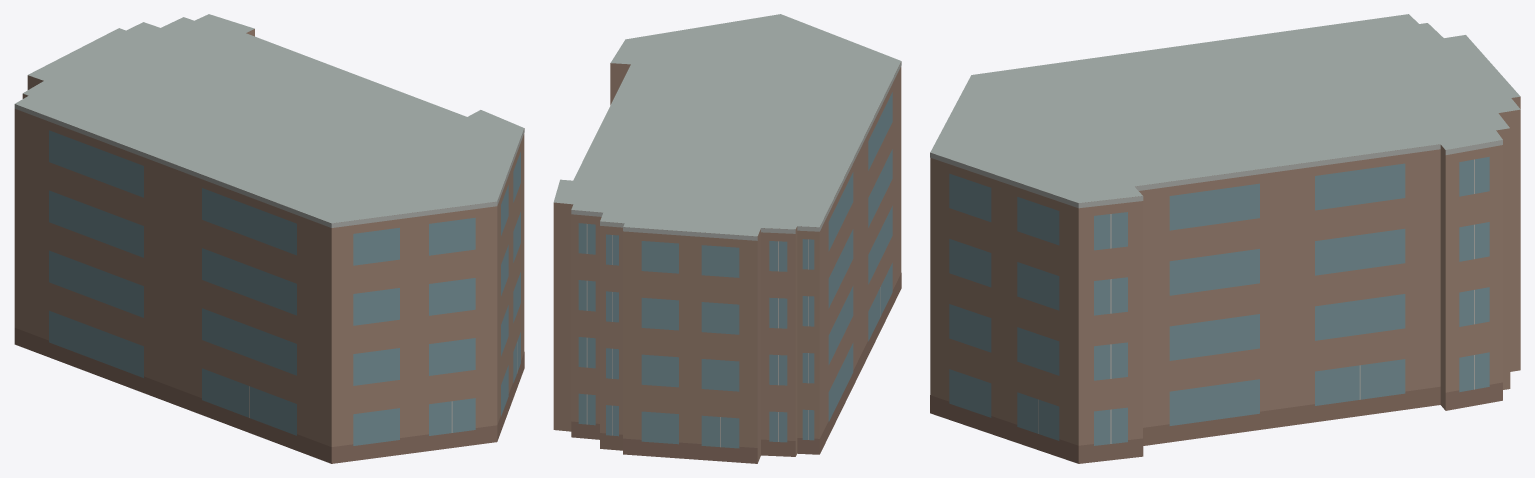
Rendered from survey-upis-32659497.glb.
3 views of the same model, side by side, from view 1: azimuth 30°, elevation 25°; view 2: azimuth 150°, elevation 25°; view 3: azimuth 270°, elevation 25° (orthographic). The views are drawn at different scales.
Visible parts, largest first — view 1: survey-upis-32659497.tmp; view 2: survey-upis-32659497.tmp; view 3: survey-upis-32659497.tmp.
Part boxes in pixels (x1,y1,x2,y2): survey-upis-32659497.tmp: (14,14,524,463); survey-upis-32659497.tmp: (553,14,901,463); survey-upis-32659497.tmp: (930,14,1520,463).
Bounding box in the file's own units: 19.46 × 12.5 × 25.67.
